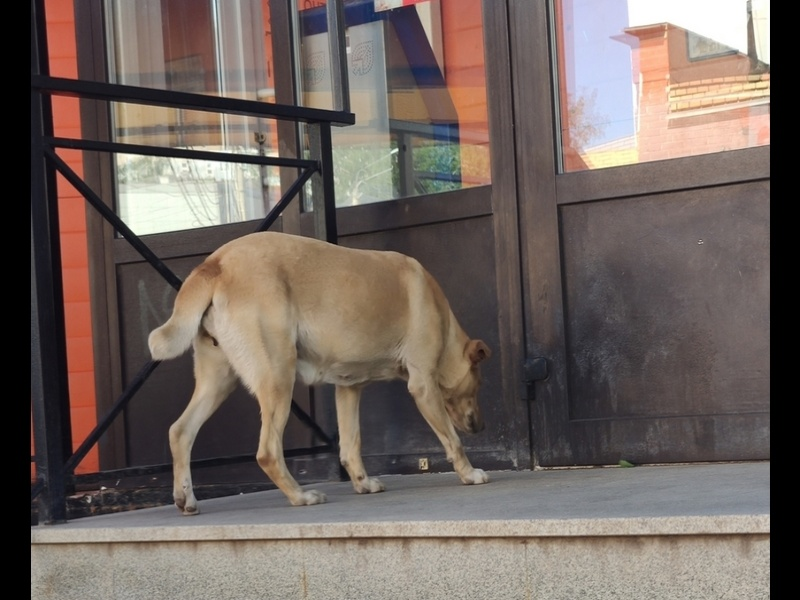dog: (145, 231, 501, 519)
